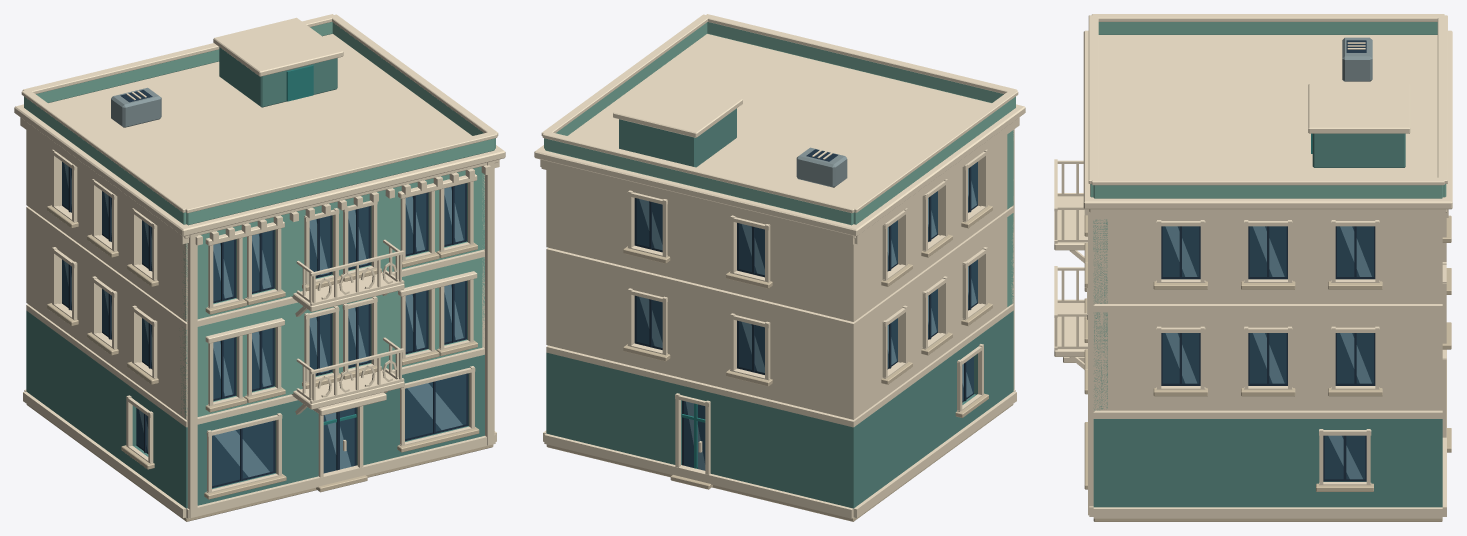
File: six_unit_apartments.glb
The picture shows the model from 3 angles, left to right: view 1: azimuth 30°, elevation 25°; view 2: azimuth 150°, elevation 25°; view 3: azimuth 270°, elevation 25°; orthographic projection. The views are drawn at different scales.
Visible parts, largest first — view 1: SixUnitApartments_StaticMesh; view 2: SixUnitApartments_StaticMesh; view 3: SixUnitApartments_StaticMesh.
Part boxes in pixels (bbox=[...]): SixUnitApartments_StaticMesh: bbox=[14, 14, 505, 521]; SixUnitApartments_StaticMesh: bbox=[534, 14, 1025, 521]; SixUnitApartments_StaticMesh: bbox=[1054, 14, 1452, 521].
Bounding box in the file's own units: 10.72 × 10.66 × 10.5.
